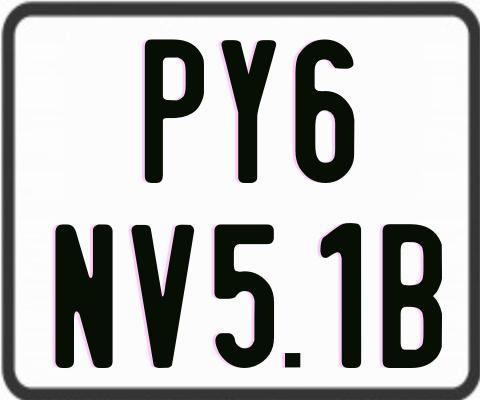1: (319, 222, 360, 368)
5: (211, 223, 273, 368)
6: (295, 40, 358, 183)
B: (381, 222, 445, 372)
N: (52, 221, 113, 367)
P: (144, 36, 209, 182)
V: (130, 225, 199, 368)
Y: (218, 39, 274, 185)
